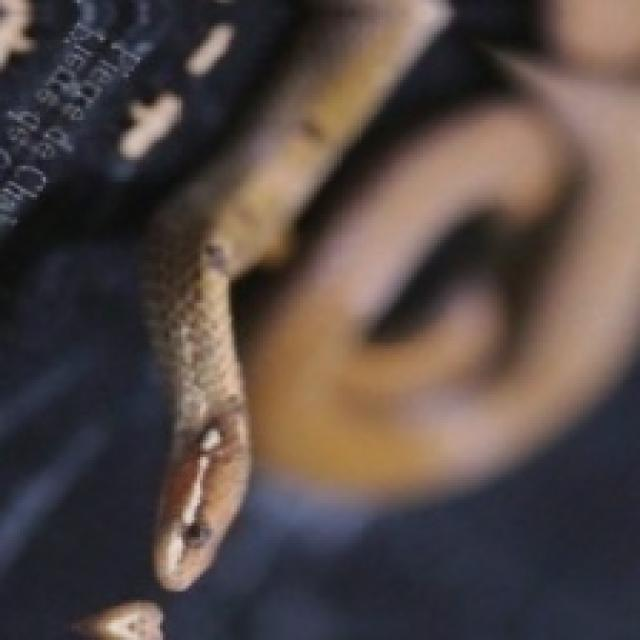philippine stripe-lipped: (144, 0, 448, 591)
